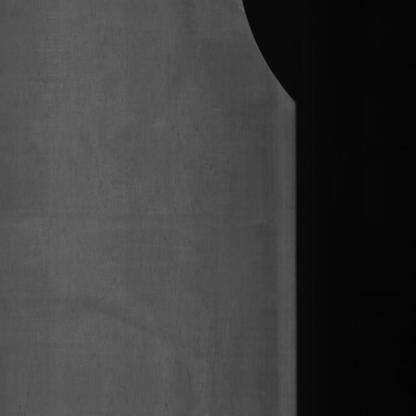crescent_gap: (230, 0, 306, 118)
